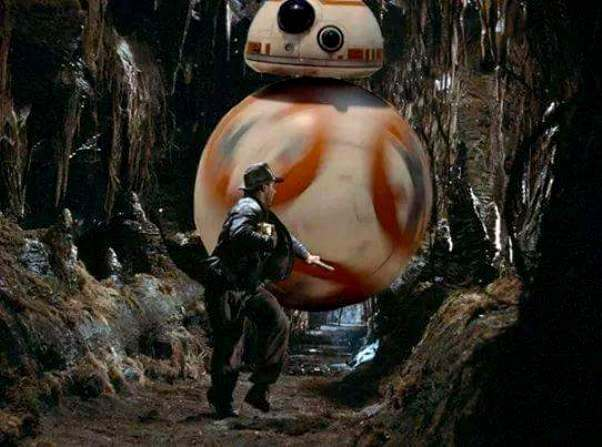bb8: (193, 1, 433, 311)
